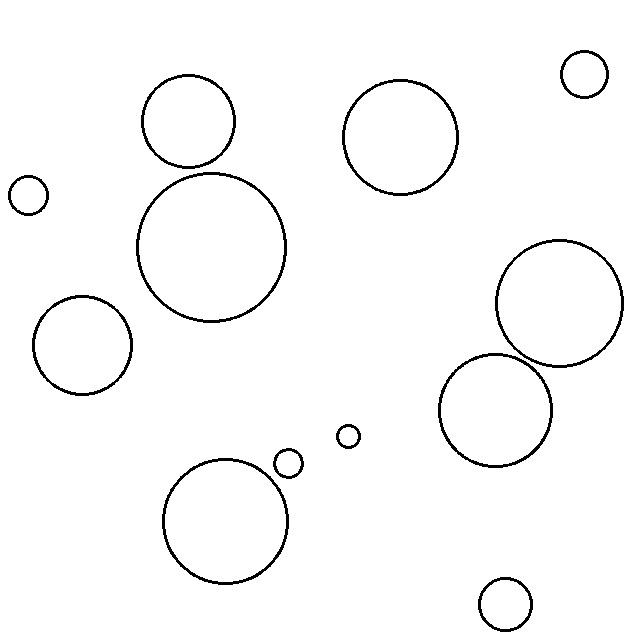circle: (135, 169, 292, 325), (494, 236, 626, 370), (161, 455, 290, 587), (341, 77, 463, 199), (438, 351, 554, 469), (30, 292, 137, 399), (138, 71, 237, 170), (475, 577, 535, 636), (558, 46, 610, 101), (8, 172, 50, 217), (274, 444, 305, 480), (336, 422, 361, 450)
